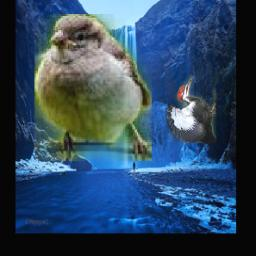Sparrow: (34, 14, 152, 161)
Woodpecker: (166, 75, 216, 143)
